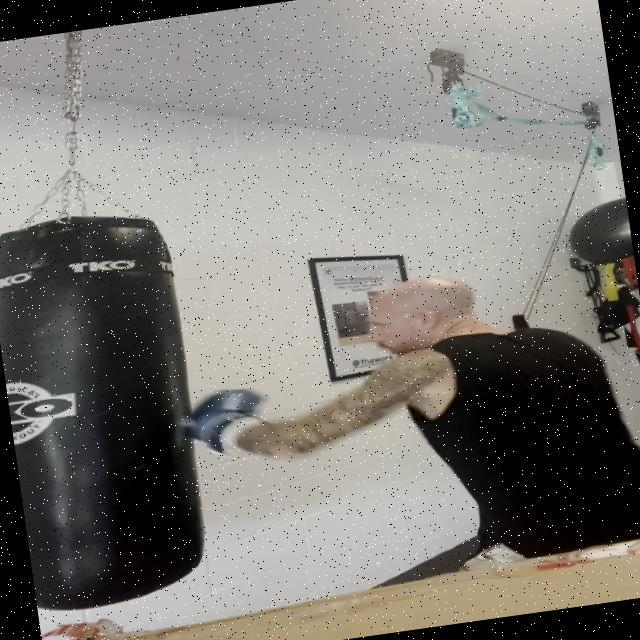bag: (0, 205, 230, 614)
hook: (170, 242, 620, 494)
